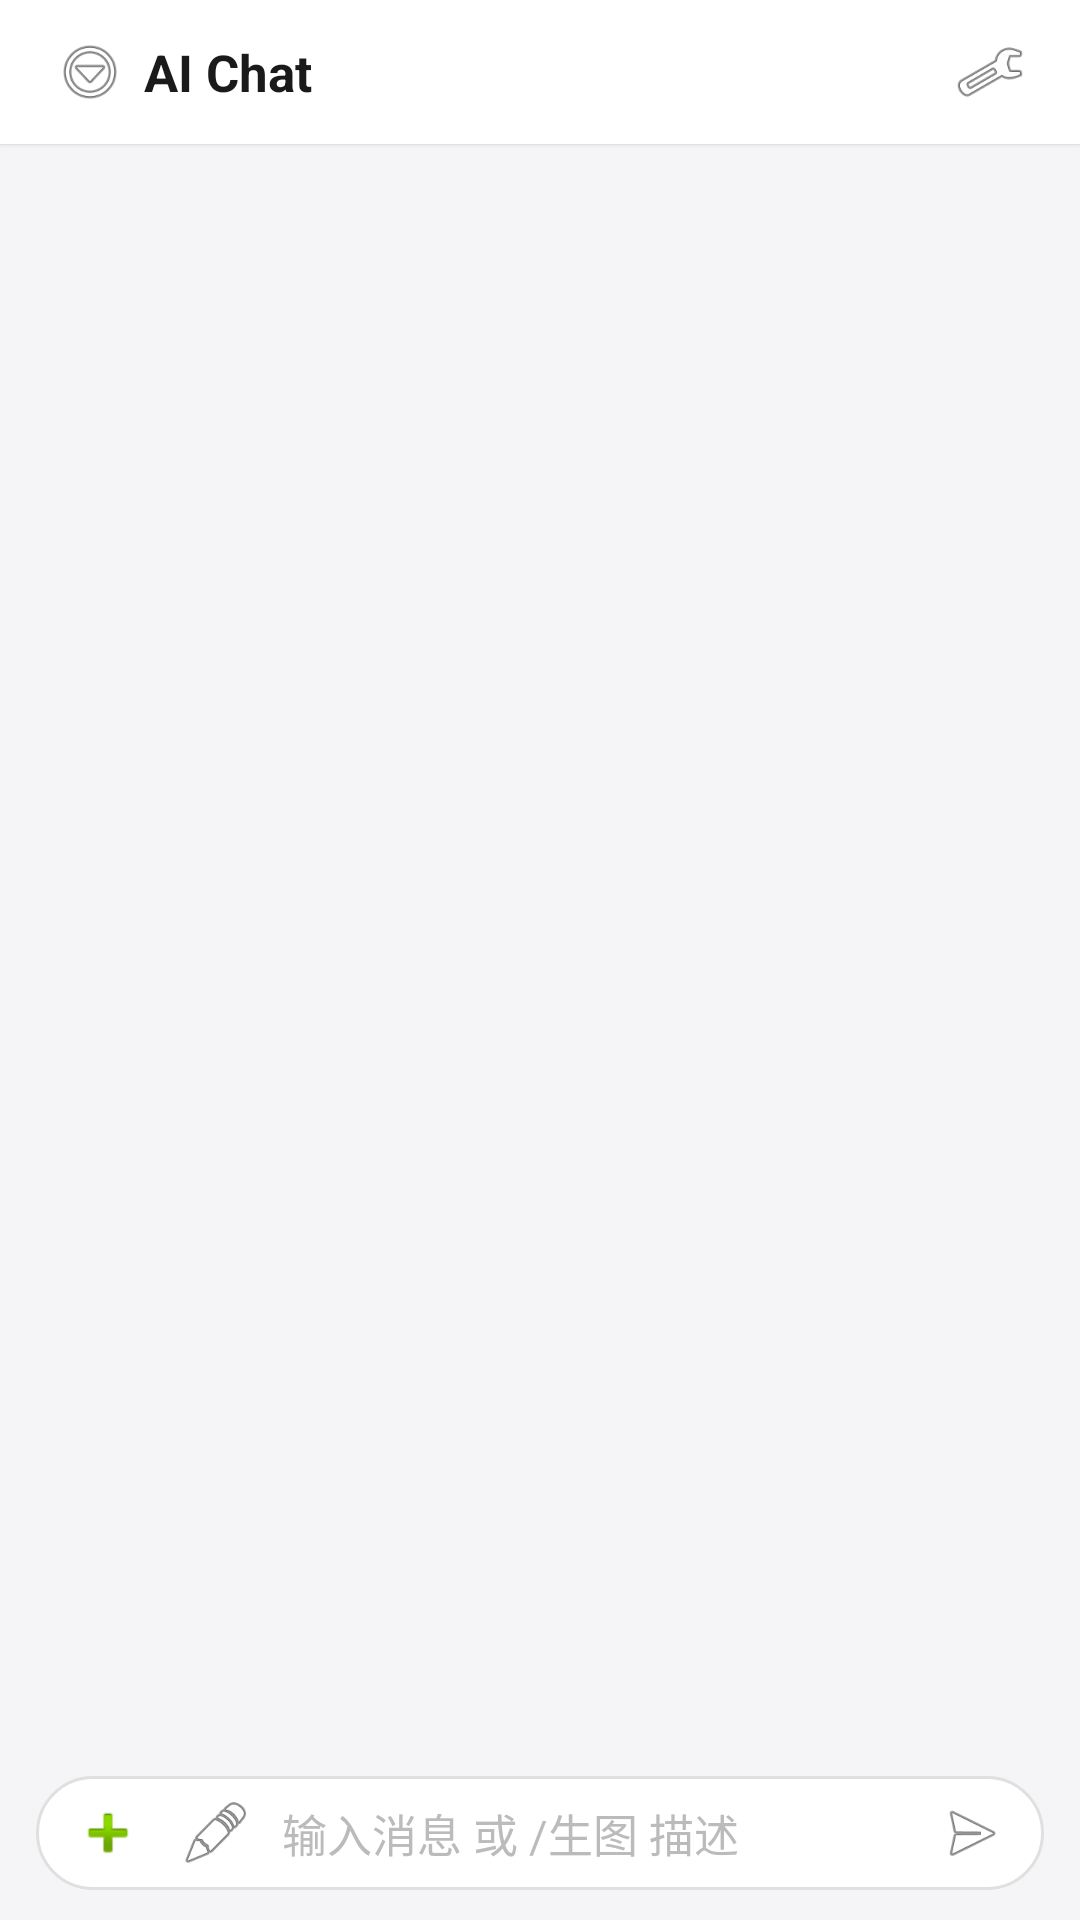

Named icons in this screenshot (1080*1920) and their centers, point (x, y):
优化提示词: point (215, 1832)
发送: point (972, 1833)
设置: point (989, 72)
附件: point (108, 1833)
